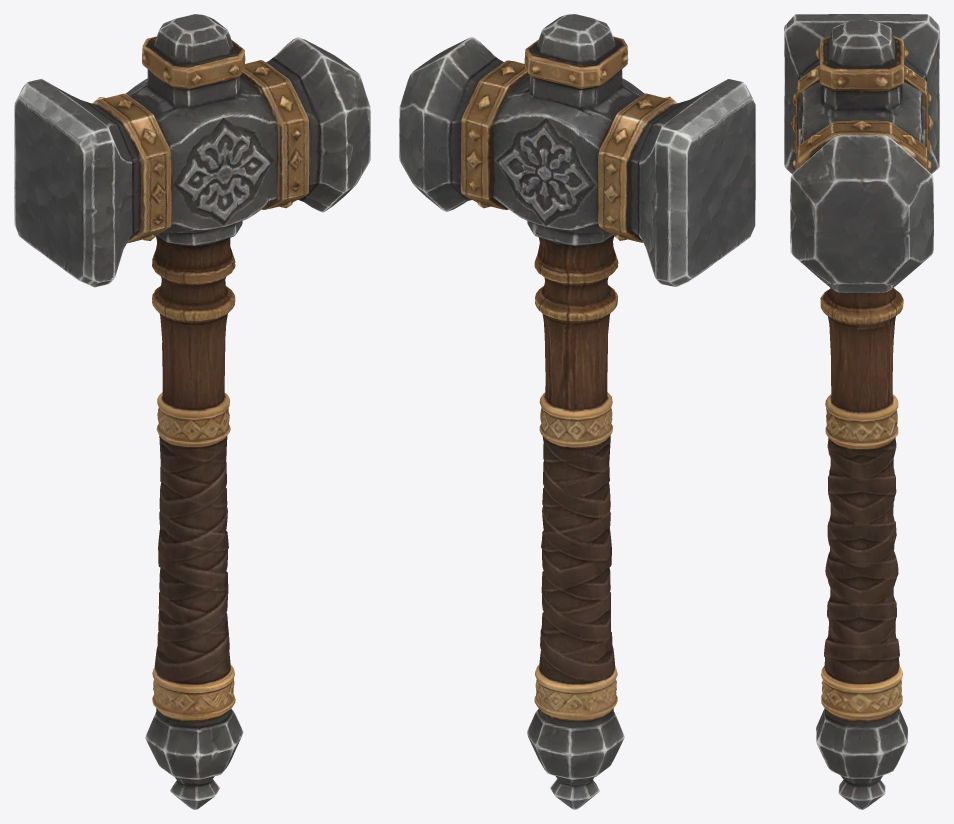
Rendered from Hammer.glb.
3 renders of one model, left to right at view 1: azimuth 30°, elevation 25°; view 2: azimuth 150°, elevation 25°; view 3: azimuth 270°, elevation 25°, orthographic.
Size of the model in its own units: 0.7548 by 1.9 by 0.3422.
Materials: 1 (1 with a texture image).
